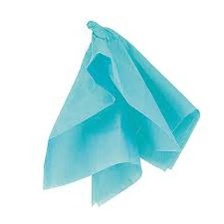tissue: (38, 18, 205, 210)
